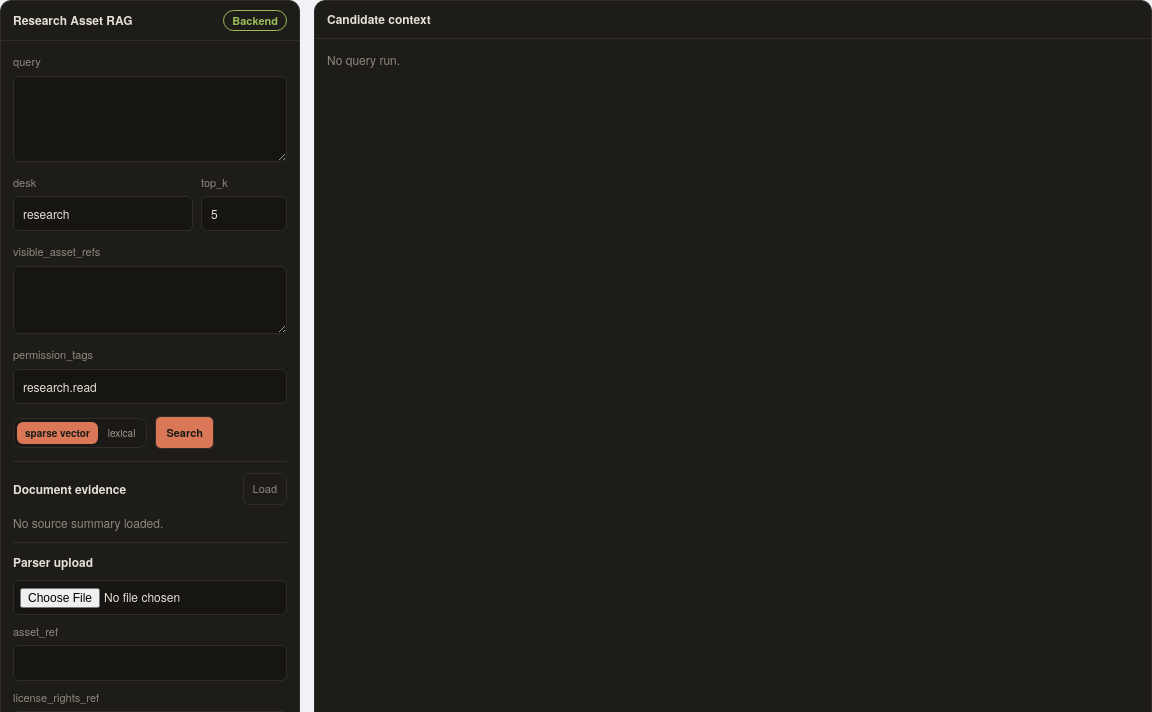
ResearchRAGPanel › lexical mode uses retrieve endpoint and clamps top_k
The width and height of the screenshot is (1152, 712).
Click the tab "lexical": (122, 433) top-left (100, 422), bottom-right (143, 444)
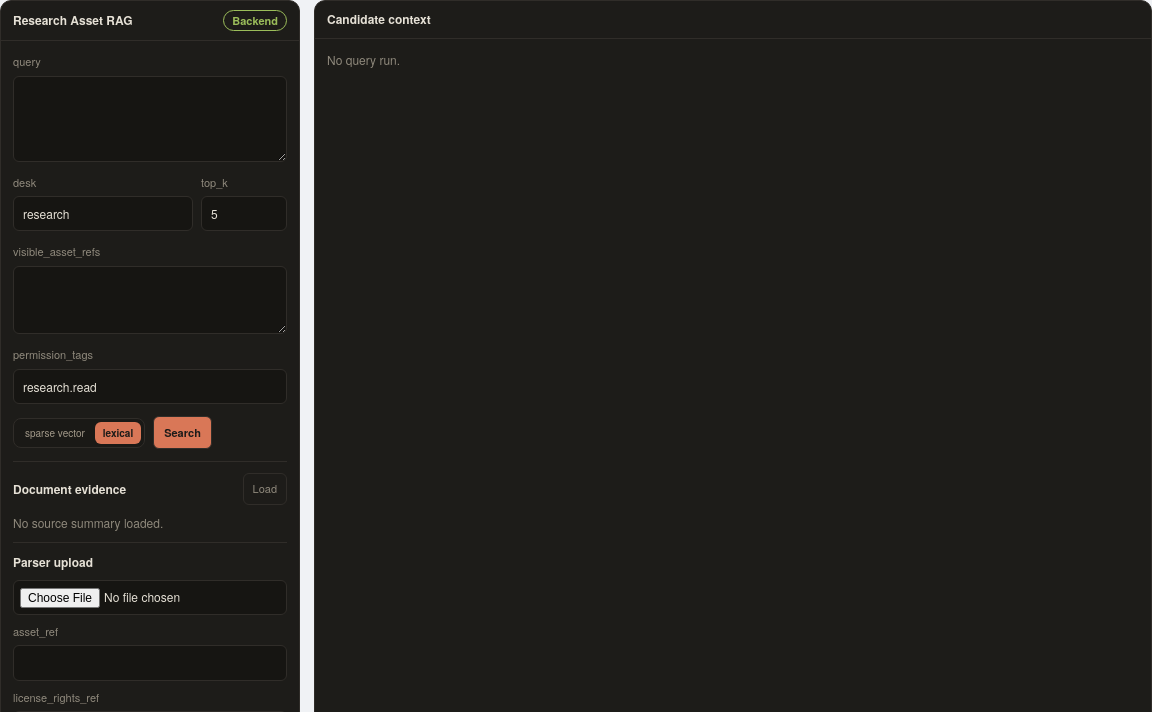
In the text box with test id "rag-query": (150, 119) top-left (13, 76), bottom-right (287, 162), type "momentum"
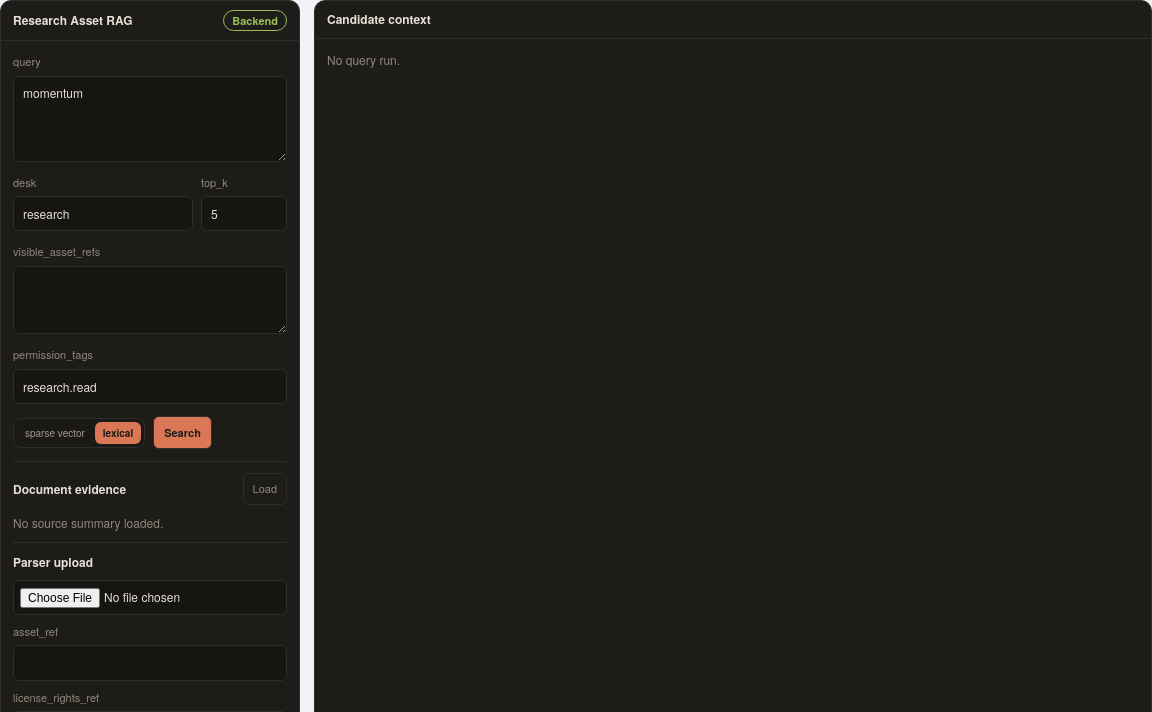
In the text box with test id "rag-assets": (150, 300) top-left (13, 266), bottom-right (287, 334), type "qro:signal-momentum"
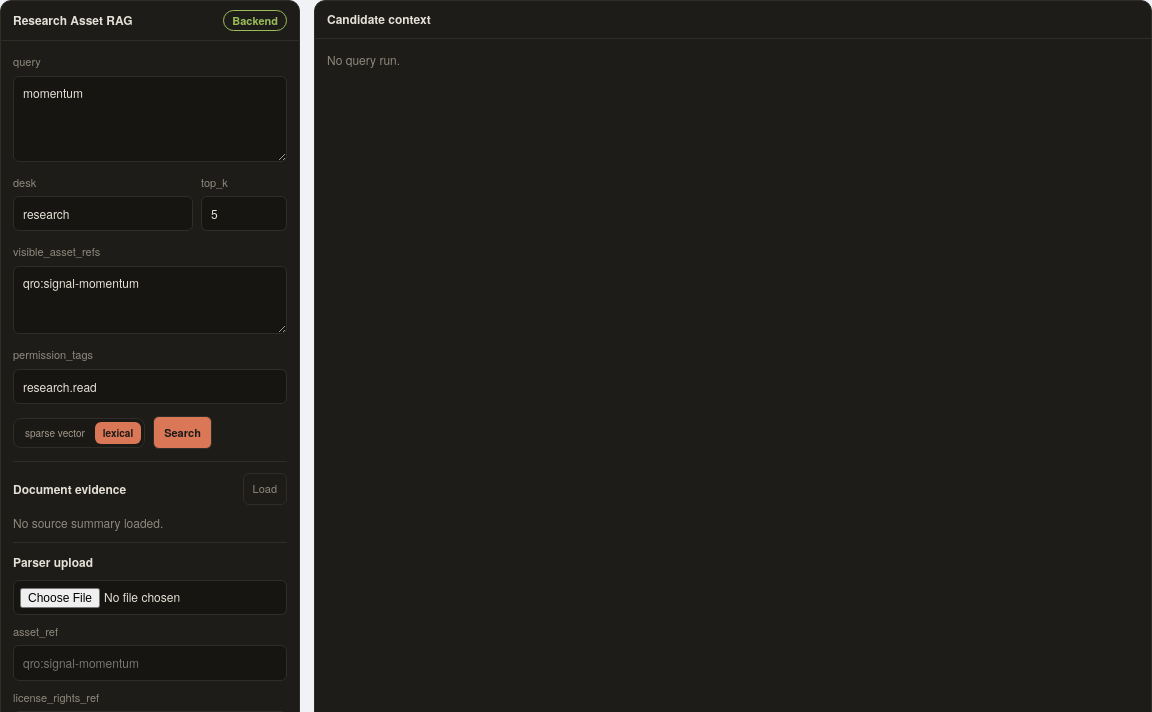
Replace the text in the number field with test id "rag-top-k" with "99": (244, 214) top-left (201, 196), bottom-right (287, 231)
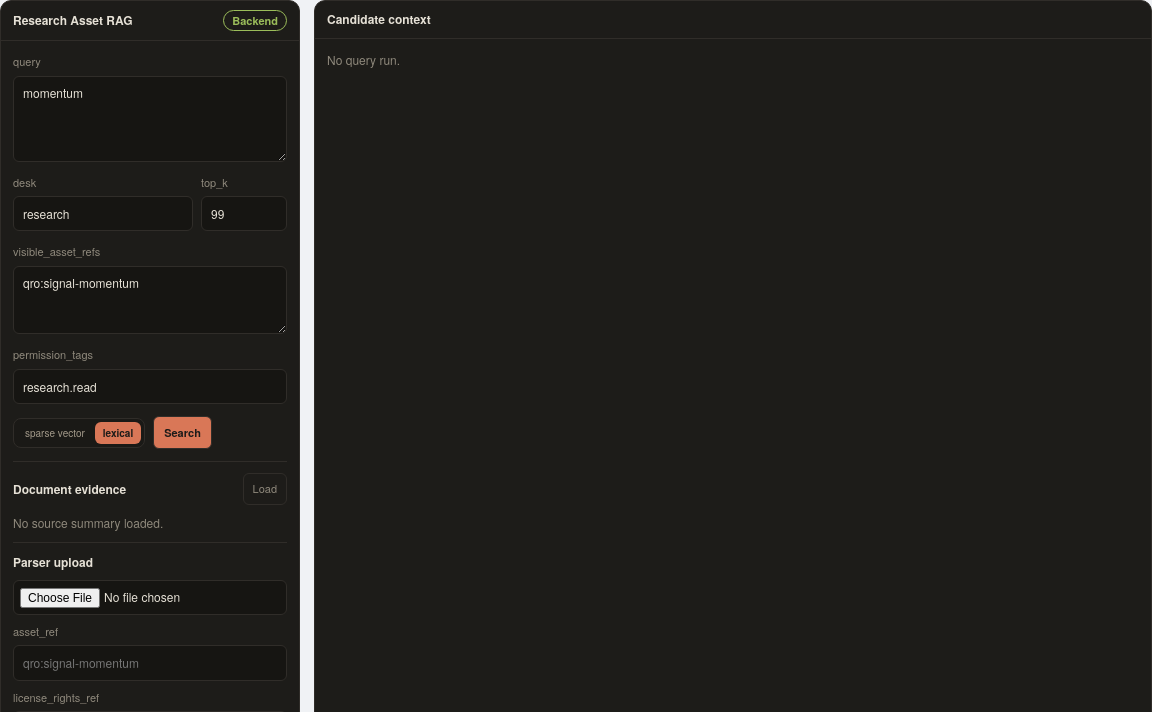
Click the button with test id "rag-submit": (183, 433) top-left (153, 416), bottom-right (212, 450)
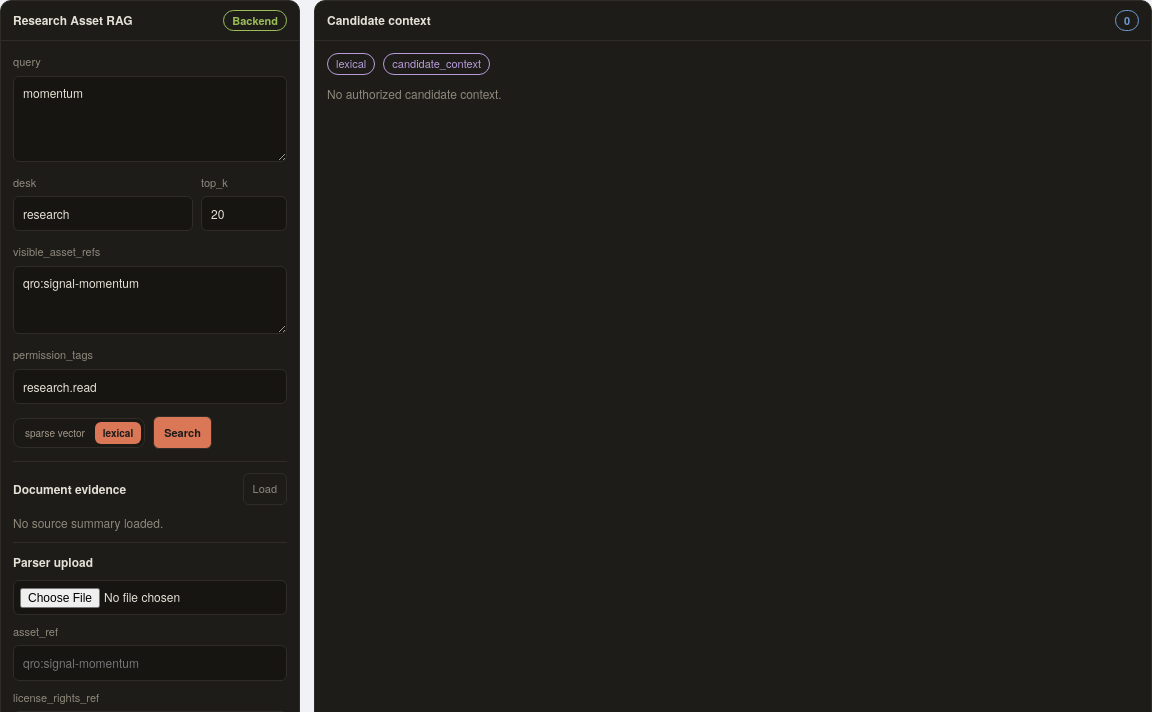
Expected: the text with test id "rag-empty" shows "No authorized candidate context", top-left (327, 85), bottom-right (502, 102)
